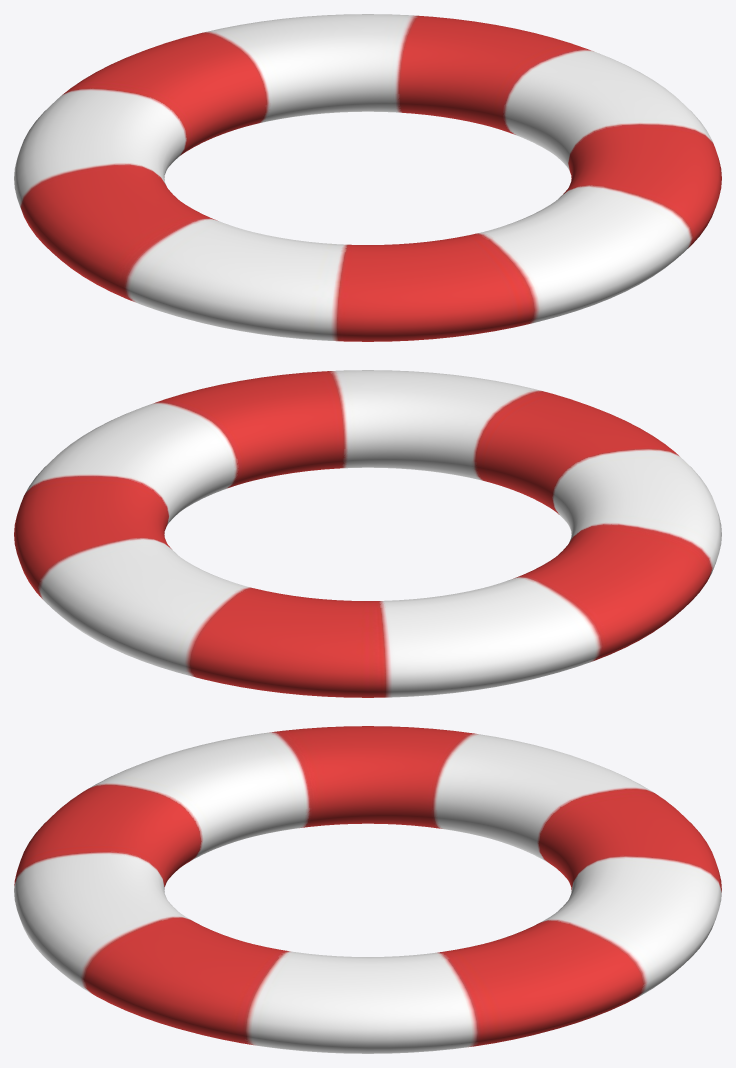
File: life_buoy_right.glb
3 renders of one model, top to bottom at view 1: azimuth 30°, elevation 25°; view 2: azimuth 150°, elevation 25°; view 3: azimuth 270°, elevation 25°, orthographic.
Parts seen in each view (by area): view 1: Torus.001; view 2: Torus.001; view 3: Torus.001.
Part boxes in pixels (x1=…): Torus.001: x1=14, y1=14, x2=721, y2=341; Torus.001: x1=14, y1=370, x2=721, y2=697; Torus.001: x1=14, y1=726, x2=721, y2=1053.
Bounding box in the file's own units: 5.05 × 0.5467 × 5.05.
Materials: 1 (1 with a texture image).
